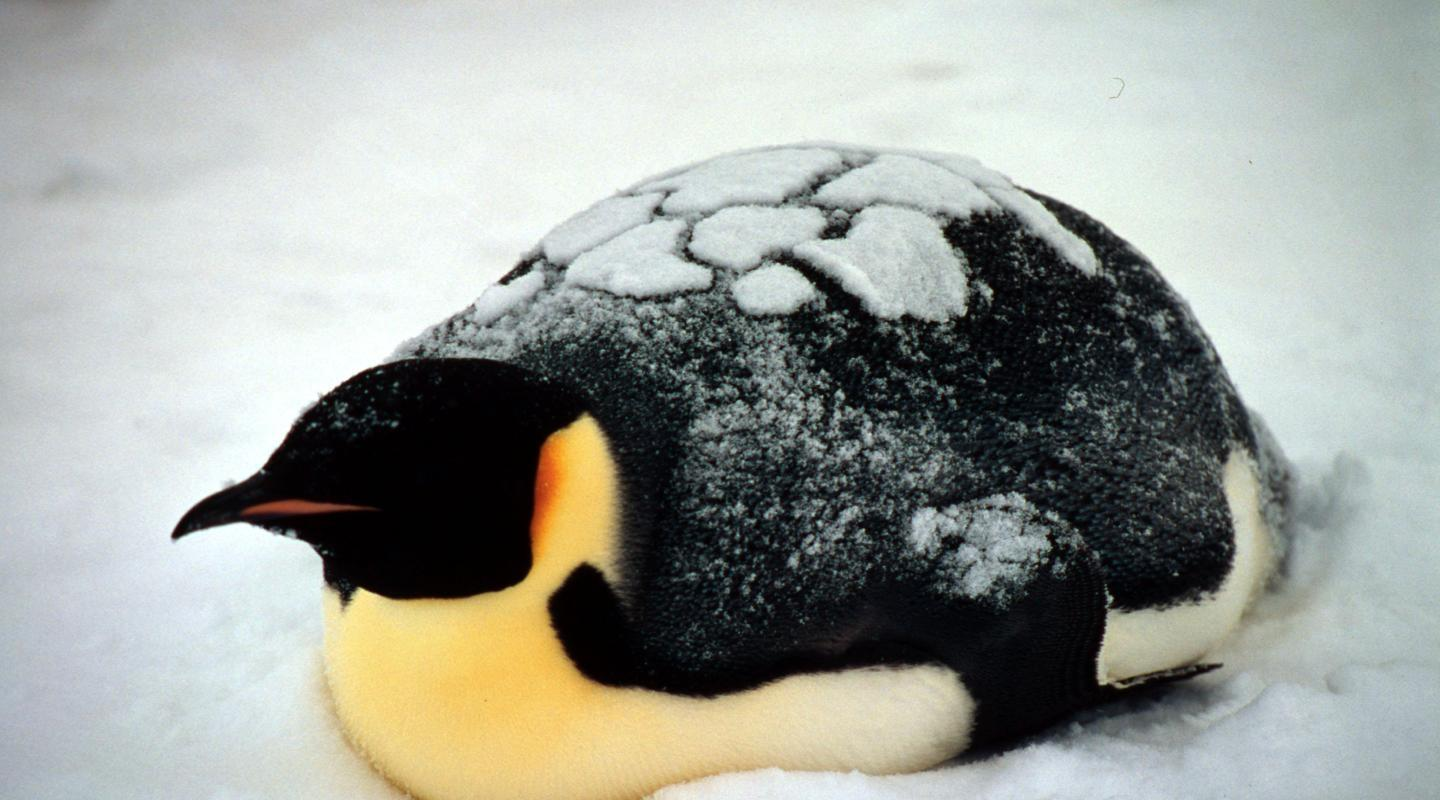Penguin: (176, 146, 1291, 795)
